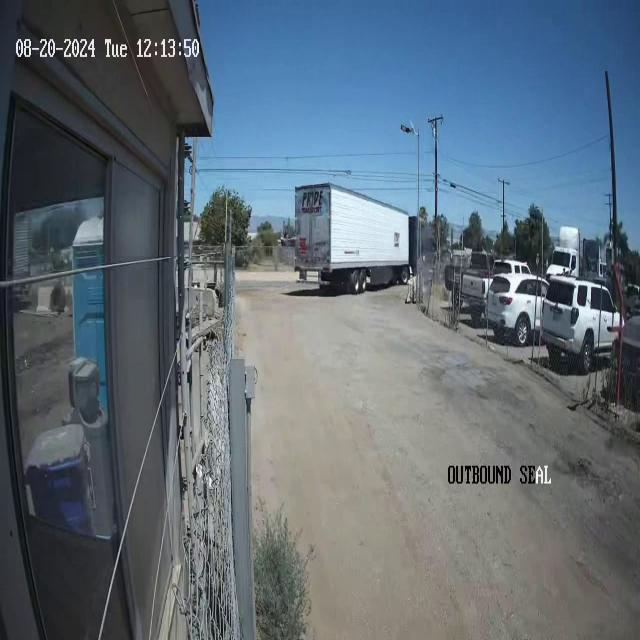TRUCK_OUT: (294, 182, 411, 294)
